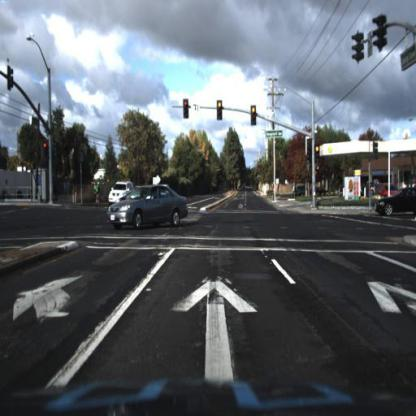biker: (92, 177, 102, 210)
car: (104, 181, 192, 239), (373, 181, 415, 221), (376, 185, 416, 218), (109, 179, 130, 205), (378, 174, 401, 197), (370, 181, 397, 199)
trafficLight-Red: (250, 104, 259, 127), (217, 101, 225, 124), (183, 95, 189, 118), (250, 105, 258, 121), (217, 101, 223, 122), (315, 144, 321, 165), (314, 145, 320, 164)
trafficLight-RedLeft: (41, 138, 51, 165), (42, 140, 50, 163), (185, 99, 190, 117)
